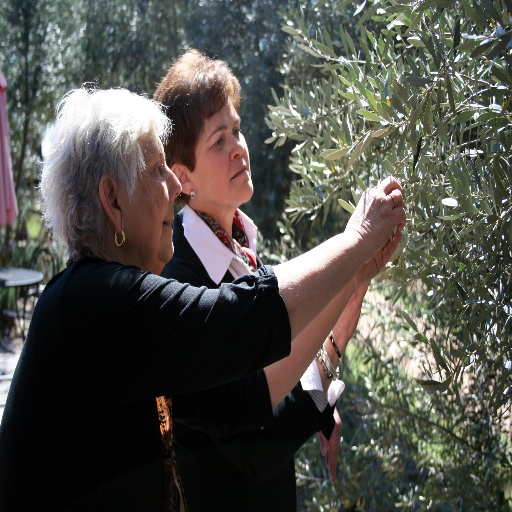hand: (344, 175, 407, 262), (352, 224, 402, 289), (332, 279, 370, 355), (317, 407, 343, 482)
